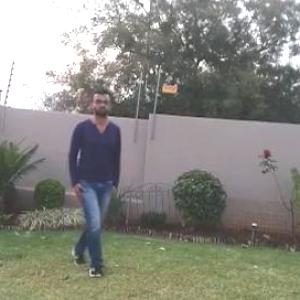follow: (71, 89, 120, 270)
